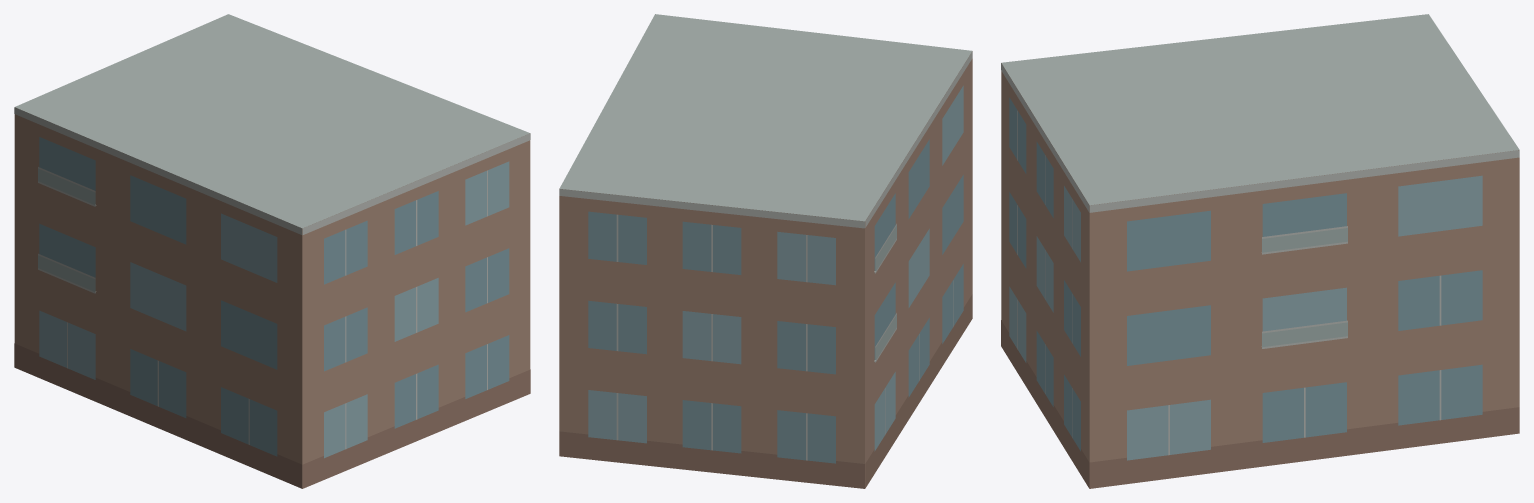
The model's file is survey-upis-32696775.glb.
3 renders of one model, left to right at view 1: azimuth 30°, elevation 25°; view 2: azimuth 150°, elevation 25°; view 3: azimuth 270°, elevation 25°, orthographic. The views are drawn at different scales.
Visible parts, largest first — view 1: survey-upis-32696775.tmp; view 2: survey-upis-32696775.tmp; view 3: survey-upis-32696775.tmp.
Boxes of the visible parts, x1=… form: survey-upis-32696775.tmp: x1=14, y1=14, x2=530, y2=488; survey-upis-32696775.tmp: x1=559, y1=14, x2=972, y2=488; survey-upis-32696775.tmp: x1=1001, y1=14, x2=1519, y2=488.
Size of the model in its own units: 13.25 by 9.15 by 15.18.
